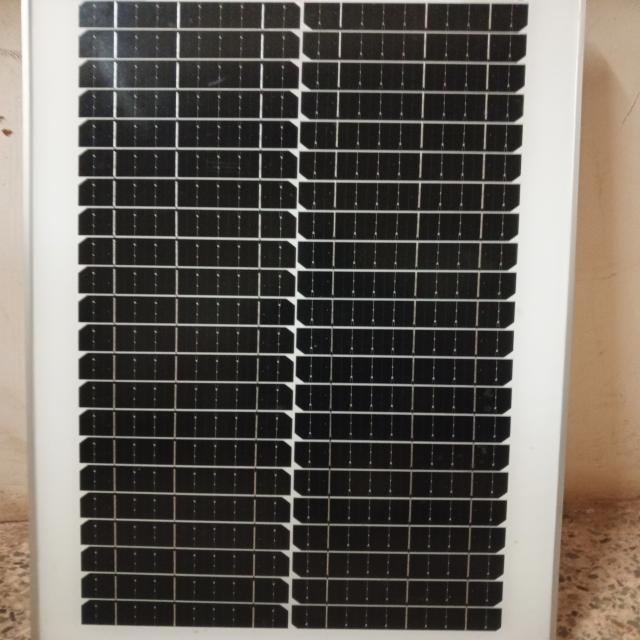Clean: (70, 12, 517, 636)
